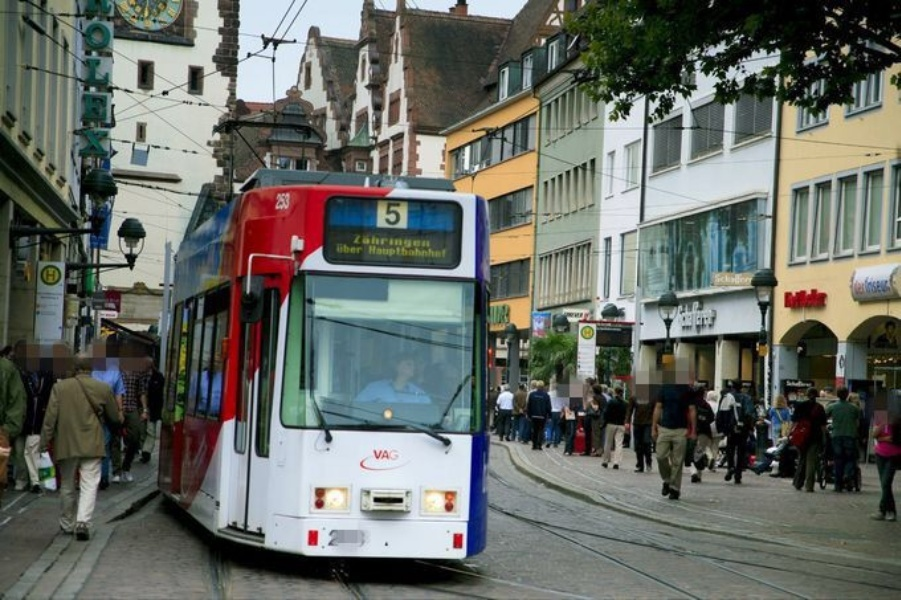text: (387, 202, 400, 227), (785, 288, 800, 309), (801, 288, 816, 309), (689, 309, 704, 329), (497, 305, 511, 325), (705, 309, 719, 329), (817, 288, 830, 309), (867, 276, 880, 293), (276, 193, 288, 211), (385, 246, 400, 259), (401, 246, 416, 259), (417, 246, 432, 259), (369, 235, 384, 248), (385, 235, 400, 248), (401, 235, 416, 248), (370, 246, 384, 259), (433, 246, 447, 259), (417, 235, 431, 248), (721, 273, 736, 285), (737, 273, 752, 285), (881, 276, 891, 293), (854, 279, 864, 296), (337, 244, 352, 255), (680, 309, 688, 329), (356, 235, 368, 248), (385, 450, 399, 461), (353, 244, 366, 255), (489, 305, 496, 325), (372, 450, 384, 461), (564, 312, 576, 320), (49, 291, 65, 296), (584, 328, 592, 338), (577, 312, 585, 320), (49, 271, 55, 281), (715, 273, 720, 285), (289, 193, 292, 211), (38, 291, 48, 296), (865, 279, 867, 296), (401, 202, 402, 227), (753, 273, 754, 285), (47, 271, 48, 281)
